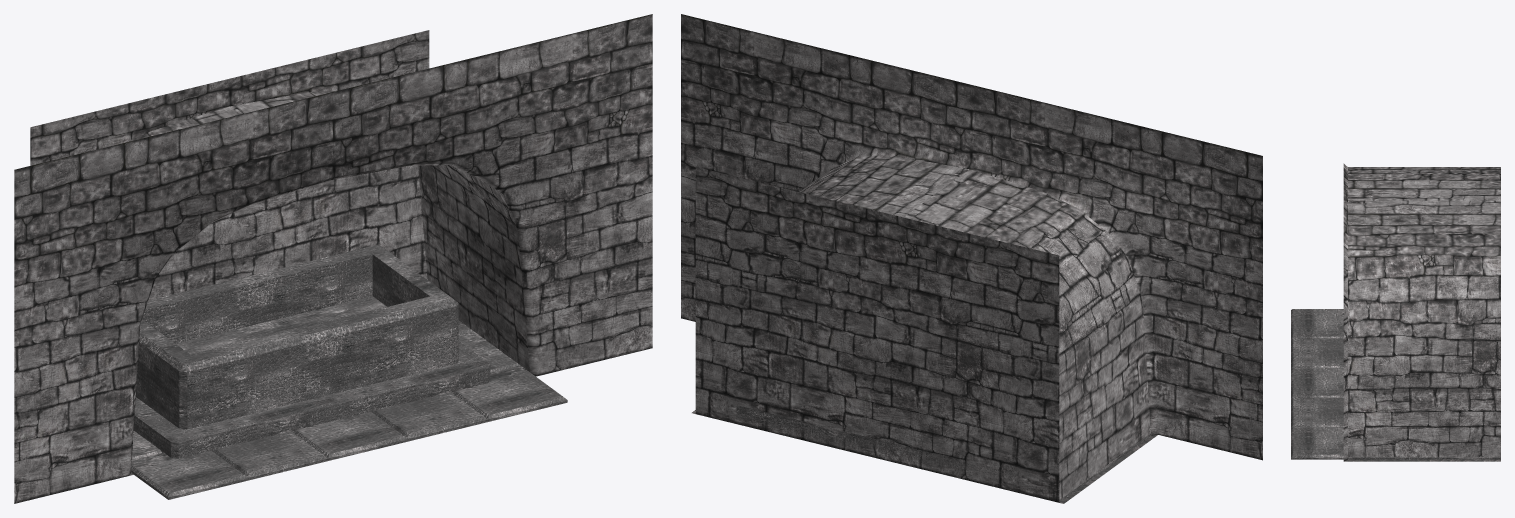
The model's file is crypt_wall_02.FBX.
The picture shows the model from 3 angles, left to right: view 1: azimuth 30°, elevation 25°; view 2: azimuth 150°, elevation 25°; view 3: azimuth 270°, elevation 25°; orthographic projection. The views are drawn at different scales.
Visible parts, largest first — view 1: wallAlcove, tomb, Object01; view 2: wallAlcove, tomb; view 3: wallAlcove, Object01, ground03.
Part boxes in pixels (box(x1,y1,x2,y2)): wallAlcove: box(14, 14, 652, 503); tomb: box(133, 244, 490, 458); Object01: box(131, 320, 567, 499); wallAlcove: box(681, 14, 1262, 502); tomb: box(736, 405, 1018, 481); wallAlcove: box(1343, 163, 1500, 460); Object01: box(1291, 309, 1500, 459); ground03: box(1344, 459, 1500, 461).
Bounding box in the file's own units: 512 × 192 × 256.
